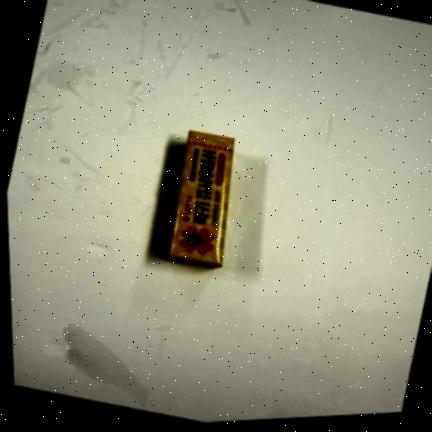gum_yellow: (168, 130, 235, 268)
